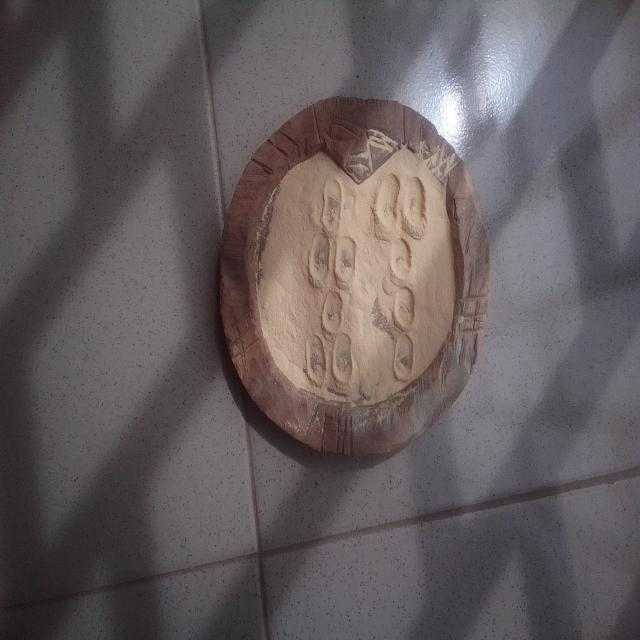double: (373, 174, 428, 239), (304, 332, 354, 388), (308, 233, 356, 288)
single: (318, 176, 342, 233), (388, 334, 416, 382), (387, 236, 414, 283), (318, 290, 347, 332), (392, 286, 416, 334)
